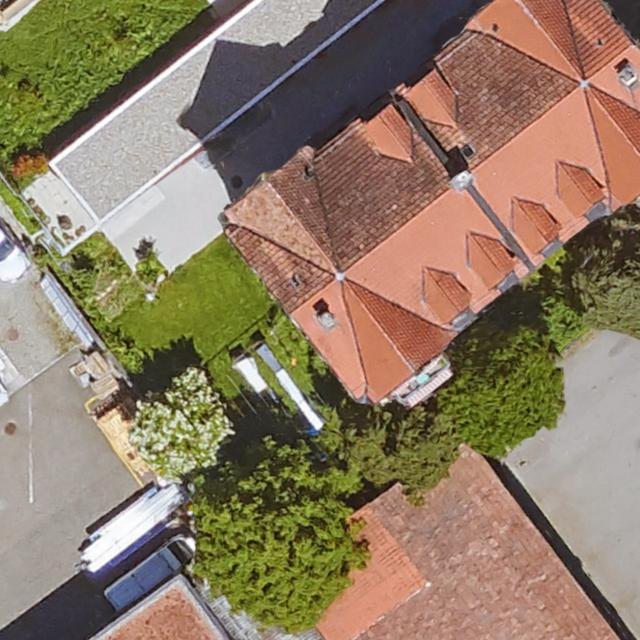tree: (197, 456, 350, 626), (438, 323, 560, 460), (129, 370, 228, 470), (576, 221, 640, 341), (384, 413, 458, 495), (327, 408, 394, 488), (537, 284, 583, 335)
